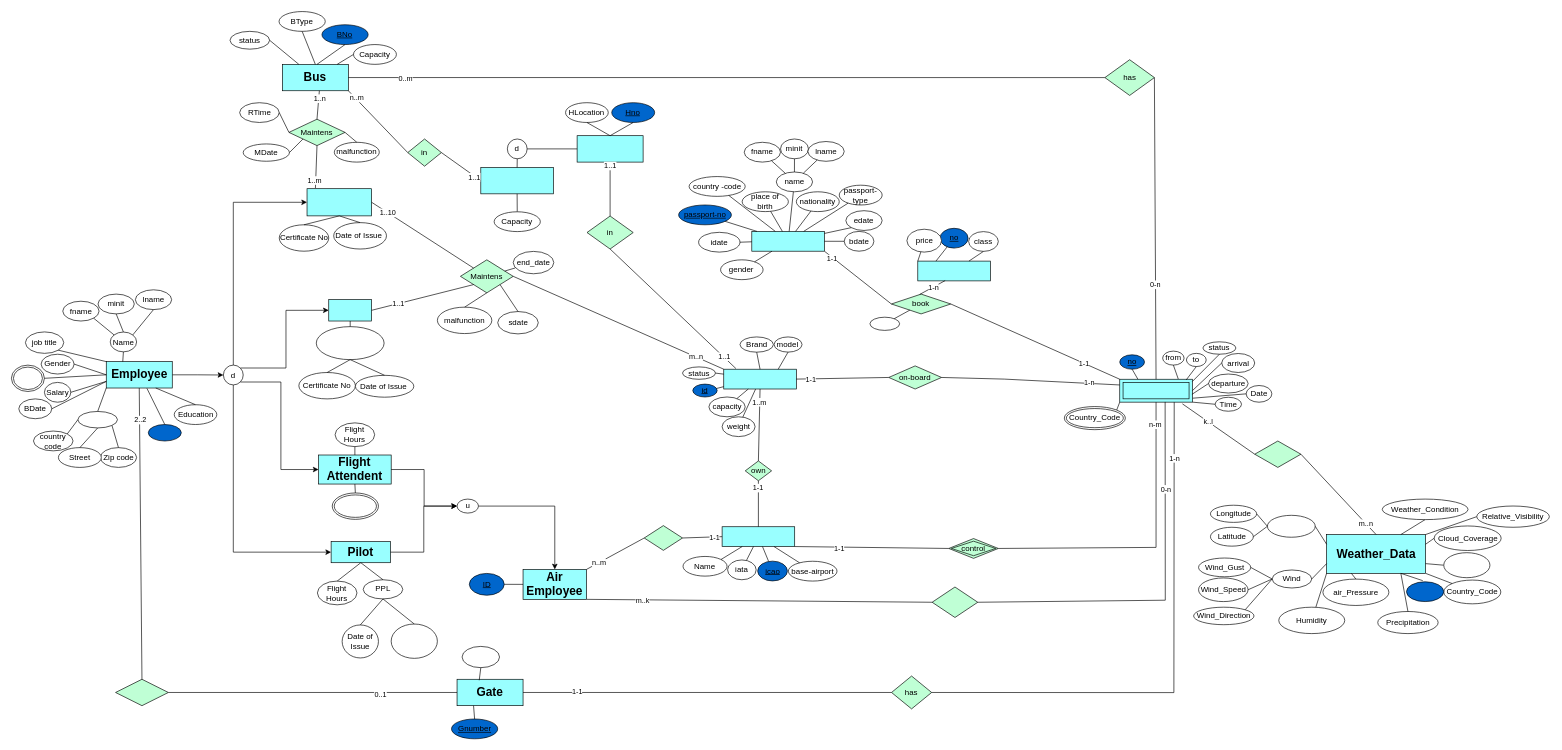
The diagram is 1562 pixels wide and 750 high, and some of its shapes have lost their labels. The shapes that lost their labels are listed below. From the top down, each one's box as (x1, y1, x2, y2) in pixels, then its label:
(576, 135, 643, 162): Hanger
(480, 167, 553, 194): Bus_Hanger
(306, 188, 372, 216): mechanic
(751, 231, 824, 251): passenger
(917, 260, 990, 281): ticket
(328, 299, 372, 321): AME
(869, 317, 900, 330): bo-date
(316, 326, 384, 360): IV in Aeroskills Certificate
(11, 364, 44, 392): Phone
(723, 369, 796, 389): plane
(1119, 379, 1192, 402): flight
(77, 411, 117, 428): Address
(148, 424, 181, 441): SSN
(1254, 440, 1301, 467): Sends
(332, 492, 378, 519): Language
(644, 525, 683, 550): work
(721, 526, 795, 547): airline
(1267, 515, 1315, 537): Coordinates
(1443, 552, 1490, 578): Log_Date
(931, 586, 978, 617): on board
(1406, 581, 1444, 602): CD
(391, 623, 437, 658): Certificate _No
(461, 646, 500, 668): Location
(115, 679, 168, 706): Secures
